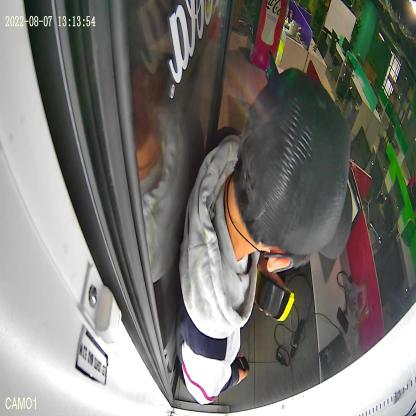yellow: (254, 268, 296, 324)
